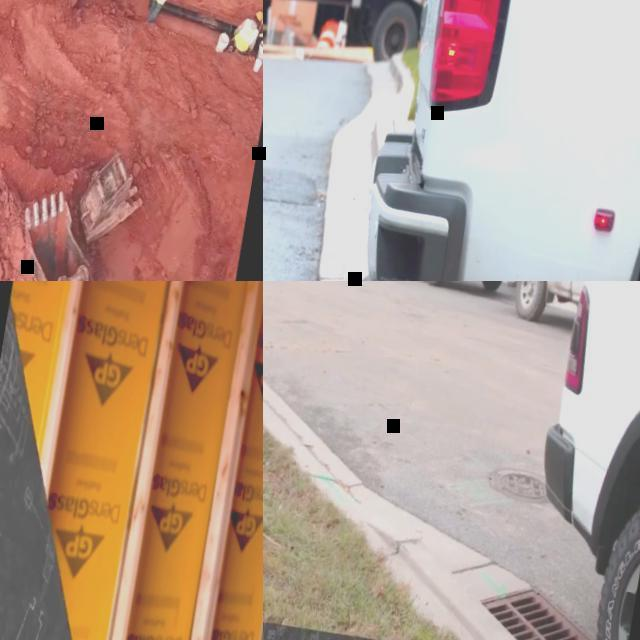helmet: (256, 10, 263, 22)
machinery: (0, 0, 136, 281), (12, 186, 106, 281)
person: (230, 7, 263, 57), (149, 0, 181, 25), (258, 5, 263, 46)
safety_cone: (318, 20, 342, 53)
vehicle: (289, 0, 640, 281), (511, 281, 640, 640), (494, 281, 640, 345)
vest: (239, 18, 260, 48)
